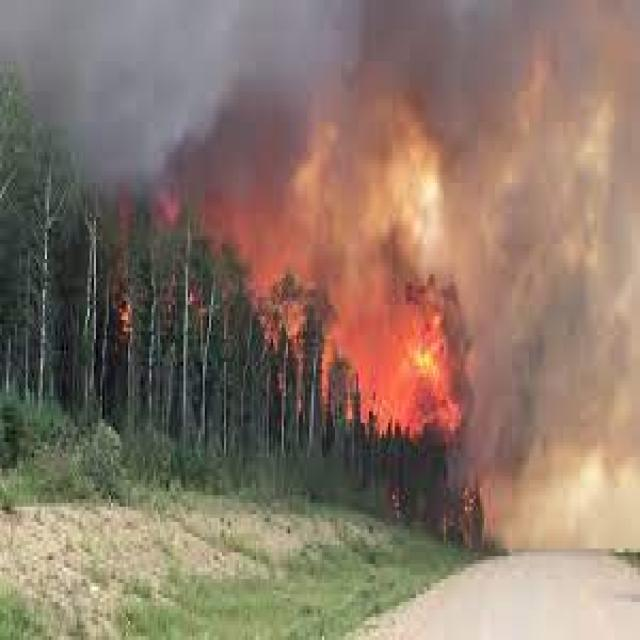Fire: (282, 208, 471, 451), (114, 280, 153, 348)
